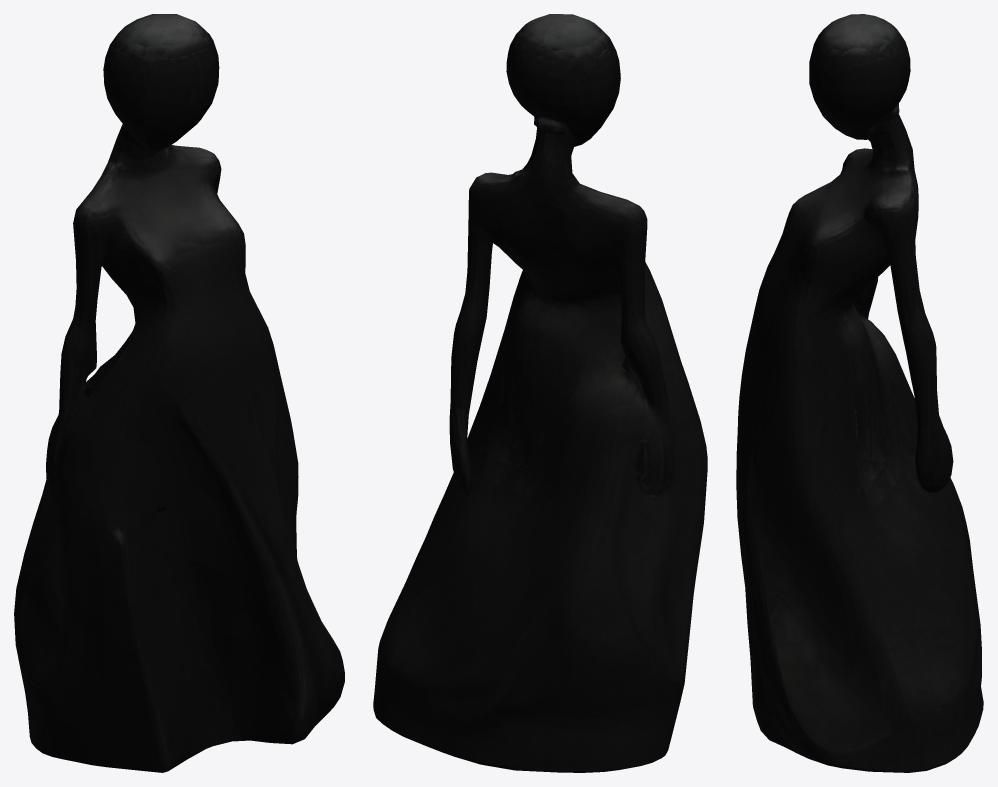
File: ceramic-figurine-futuristic.jpeg.glb
3 views of the same model, side by side, from view 1: azimuth 30°, elevation 25°; view 2: azimuth 150°, elevation 25°; view 3: azimuth 270°, elevation 25° (orthographic). The views are drawn at different scales.
Parts seen in each view (by area): view 1: world; view 2: world; view 3: world.
Boxes of the visible parts, x1,y1,x2,y2 form: world: [14, 14, 344, 772]; world: [373, 14, 707, 772]; world: [736, 14, 983, 772].
Bounding box in the file's own units: 0.4296 × 1 × 0.3301.
1 material, 1 textured.
